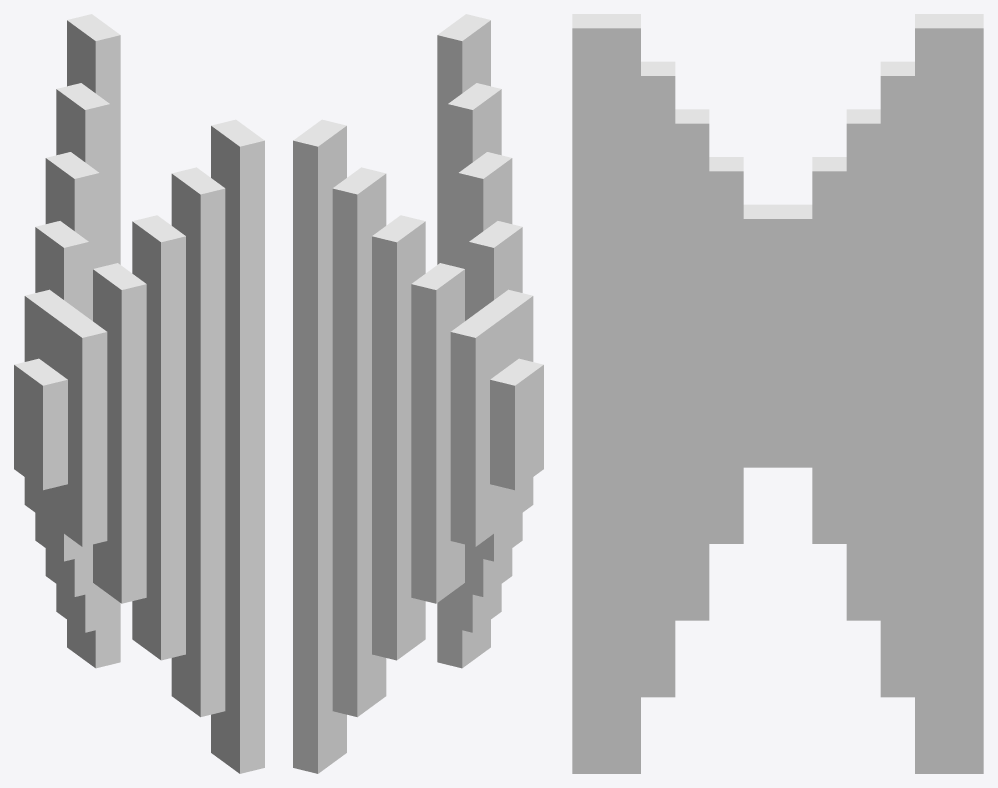
File: WallLight_1.obj
3 renders of one model, left to right at view 1: azimuth 30°, elevation 25°; view 2: azimuth 150°, elevation 25°; view 3: azimuth 270°, elevation 25°, orthographic. The views are drawn at different scales.
Visible parts, largest first — view 1: WallLight_1; view 2: WallLight_1; view 3: WallLight_1.
Boxes of the visible parts, <box> form: WallLight_1: <box>14,14,264,773</box>; WallLight_1: <box>293,14,543,773</box>; WallLight_1: <box>572,14,983,773</box>.
Size of the model in its own units: 6 by 24 by 12.
Materials: 1 (1 with a texture image).
